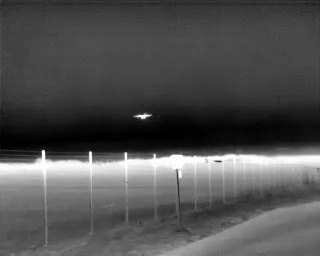AIRPLANE: (131, 111, 153, 122)
